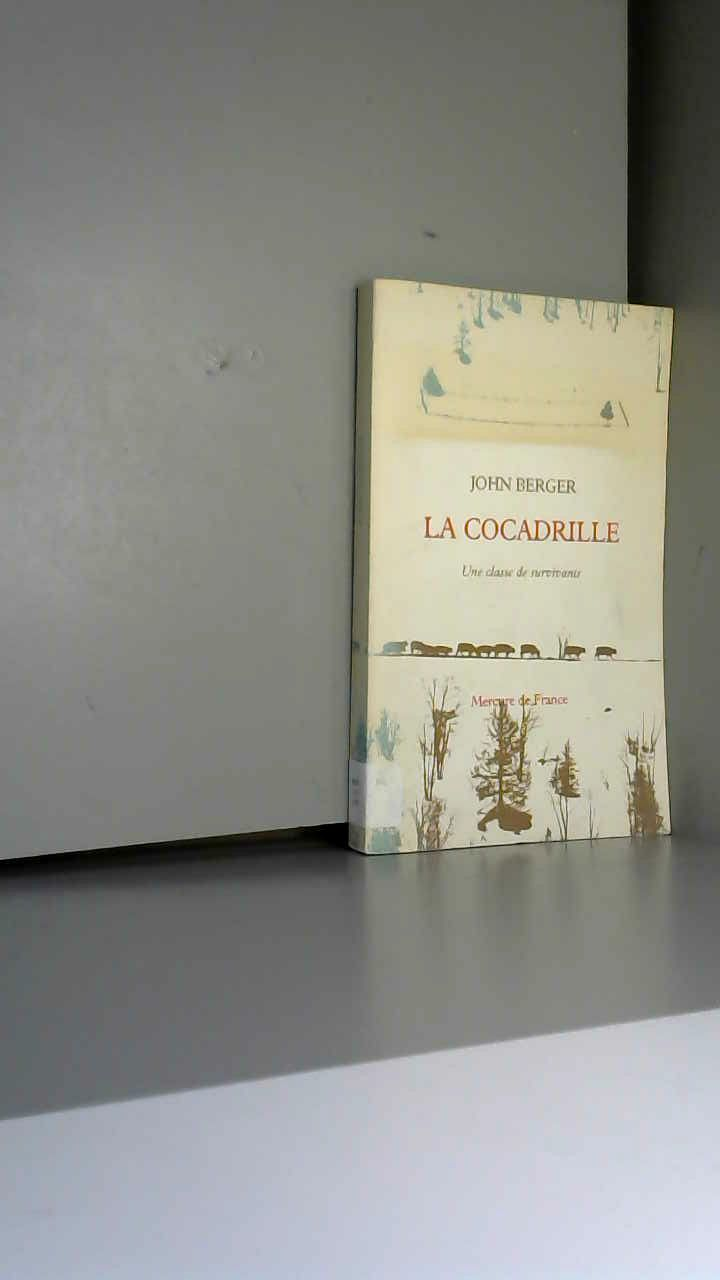book: (320, 260, 720, 884)
